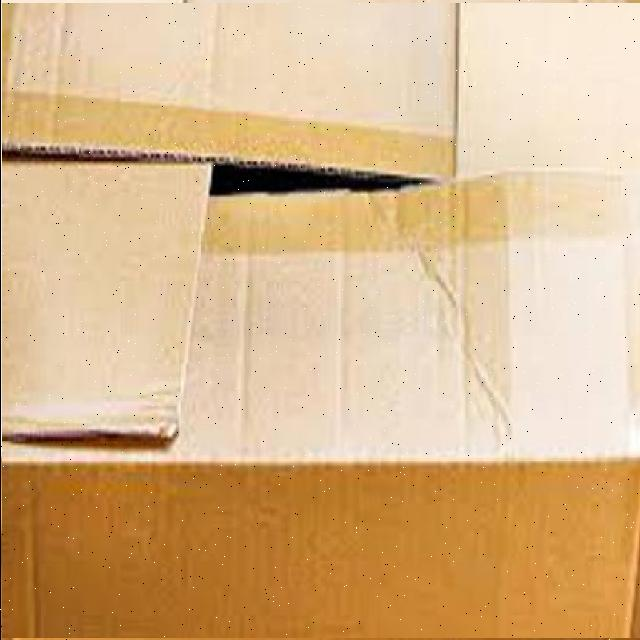defect: (1, 3, 640, 638)
